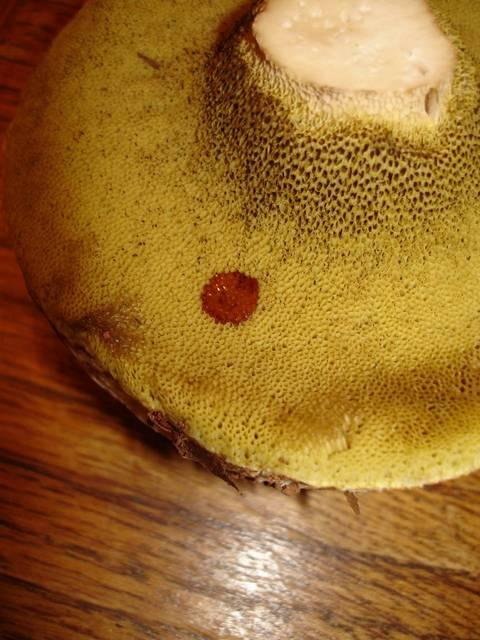Edible Mushroom: (1, 0, 479, 497)
